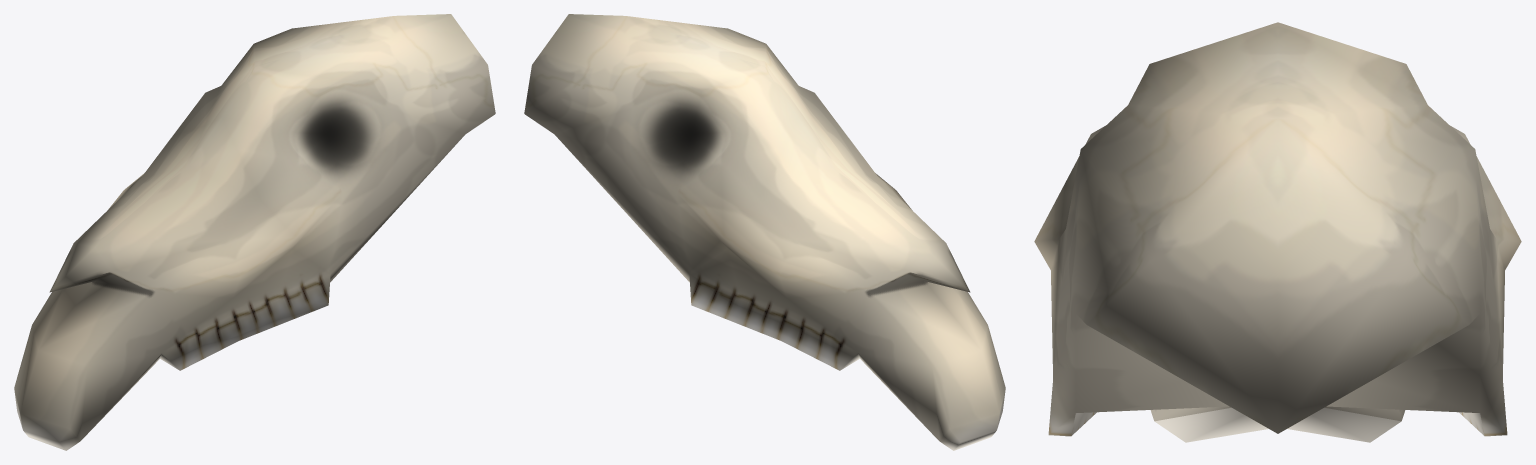
The model's file is Ctn_horse_skeleton_01_v01.fbx.
The picture shows the model from 3 angles, left to right: view 1: azimuth 30°, elevation 25°; view 2: azimuth 150°, elevation 25°; view 3: azimuth 270°, elevation 25°; orthographic projection. The views are drawn at different scales.
Parts seen in each view (by area): view 1: horse_skeleton_01_v01; view 2: horse_skeleton_01_v01; view 3: horse_skeleton_01_v01.
Boxes of the visible parts, x1,y1,x2,y2 form: horse_skeleton_01_v01: [14, 14, 495, 450]; horse_skeleton_01_v01: [524, 14, 1005, 450]; horse_skeleton_01_v01: [1034, 22, 1521, 442].
Size of the model in its own units: 92.83 by 62.94 by 41.8.
